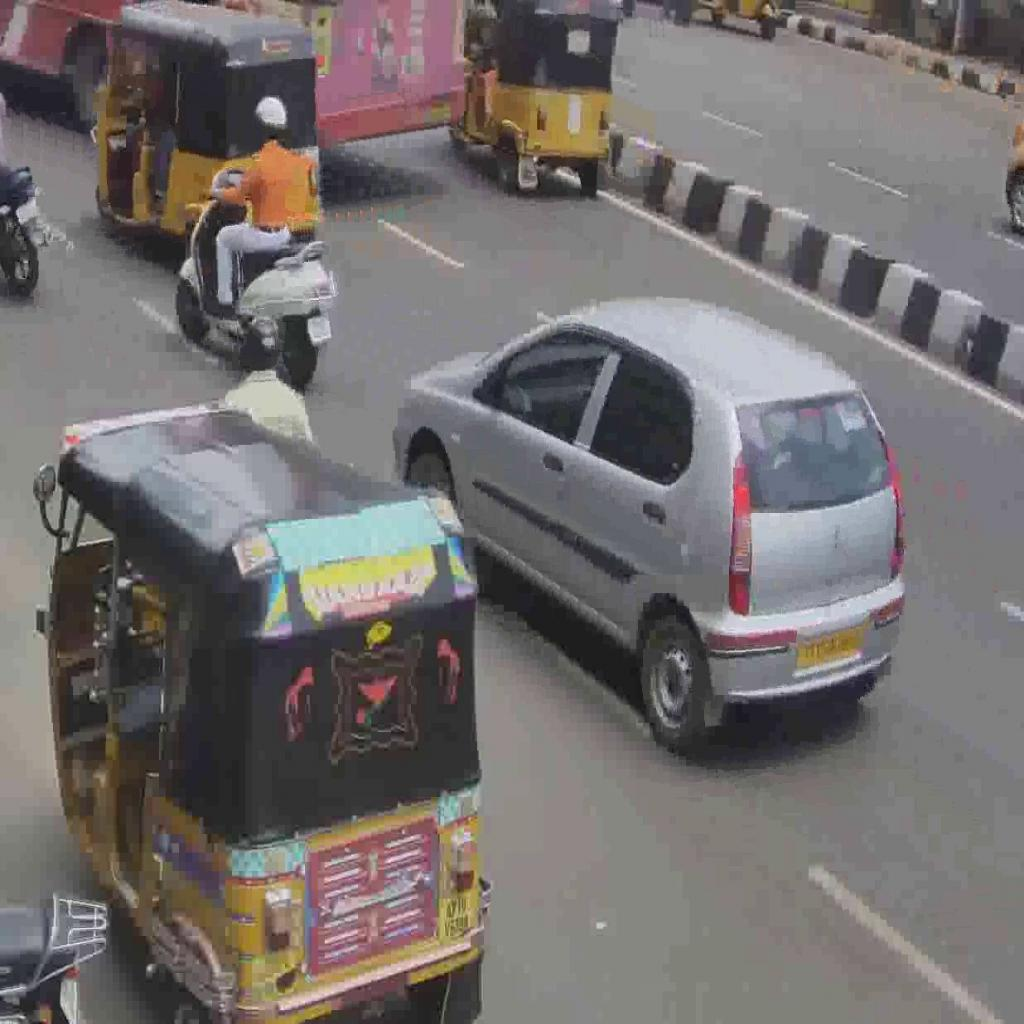helmet: (174, 164, 337, 387)
